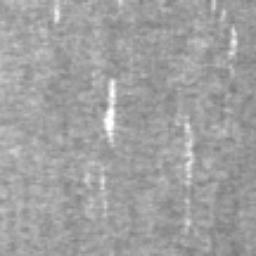White rust: (101, 78, 118, 142), (183, 122, 196, 176), (227, 27, 239, 56), (53, 4, 60, 22), (99, 172, 105, 188)
